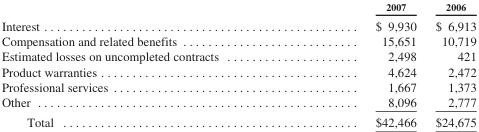table: (0, 0, 475, 128)
table column: (0, 0, 296, 128), (296, 0, 425, 128), (425, 0, 475, 128)
table column header: (0, 0, 475, 15)
table row: (0, 15, 475, 33), (0, 94, 475, 111), (0, 111, 475, 128), (0, 78, 475, 94), (0, 0, 475, 15), (0, 33, 475, 48), (0, 48, 475, 63), (0, 63, 475, 78)
